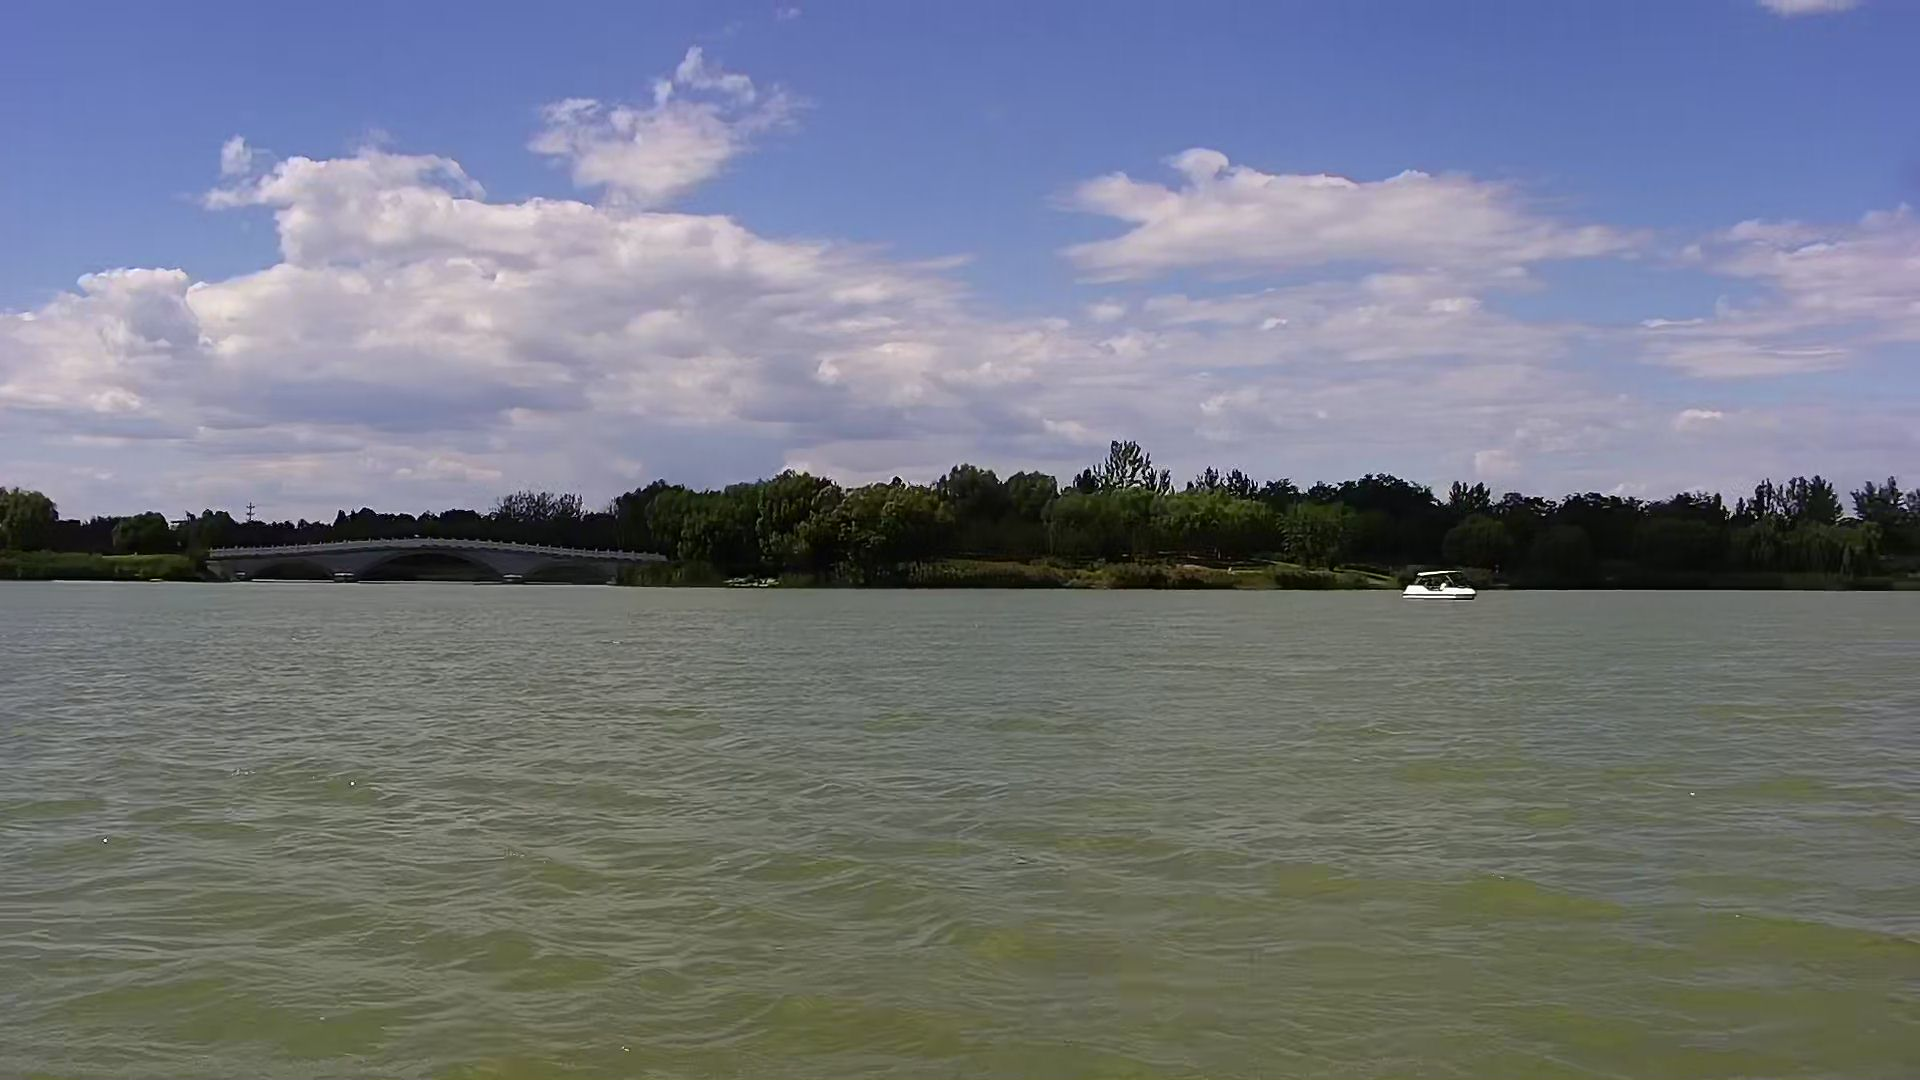boat: (1399, 562, 1480, 603)
bridge: (207, 529, 667, 588)
